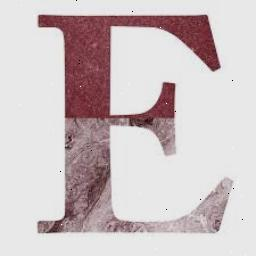e: (33, 11, 233, 237)
